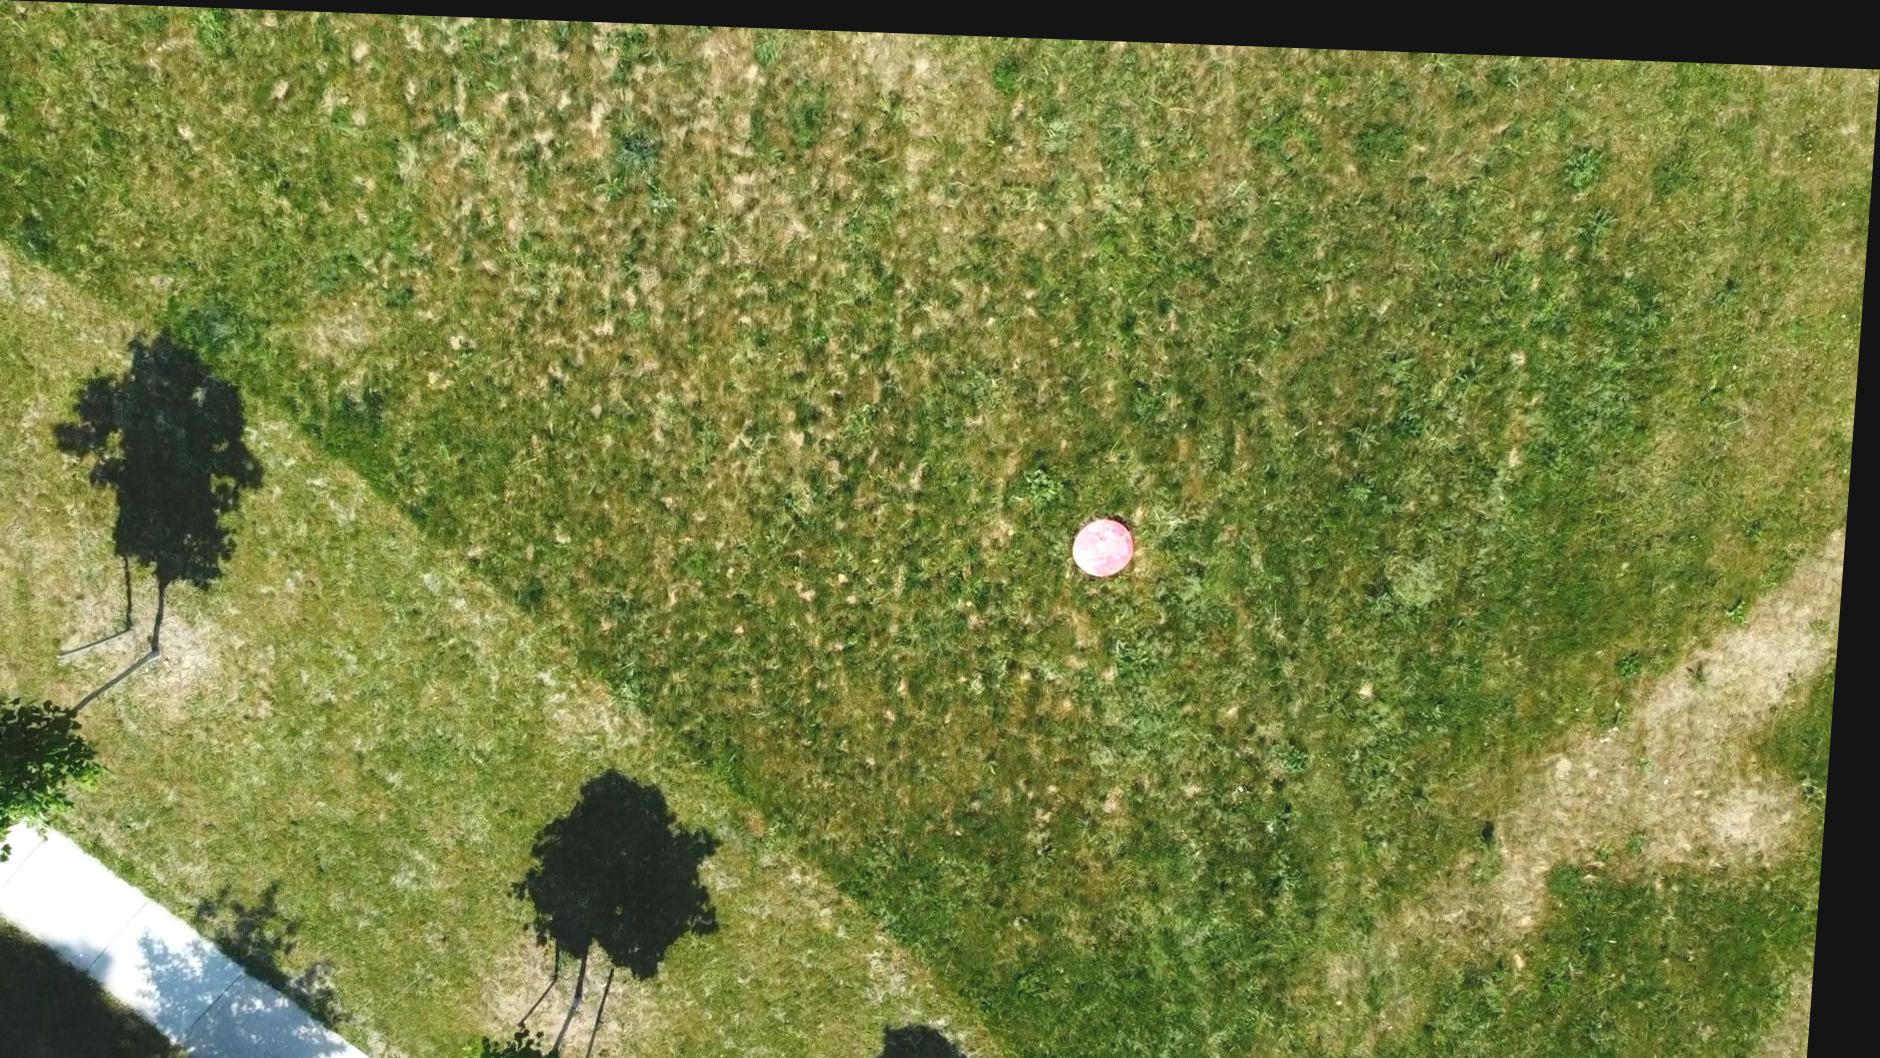Red: (1077, 504, 1147, 571)
